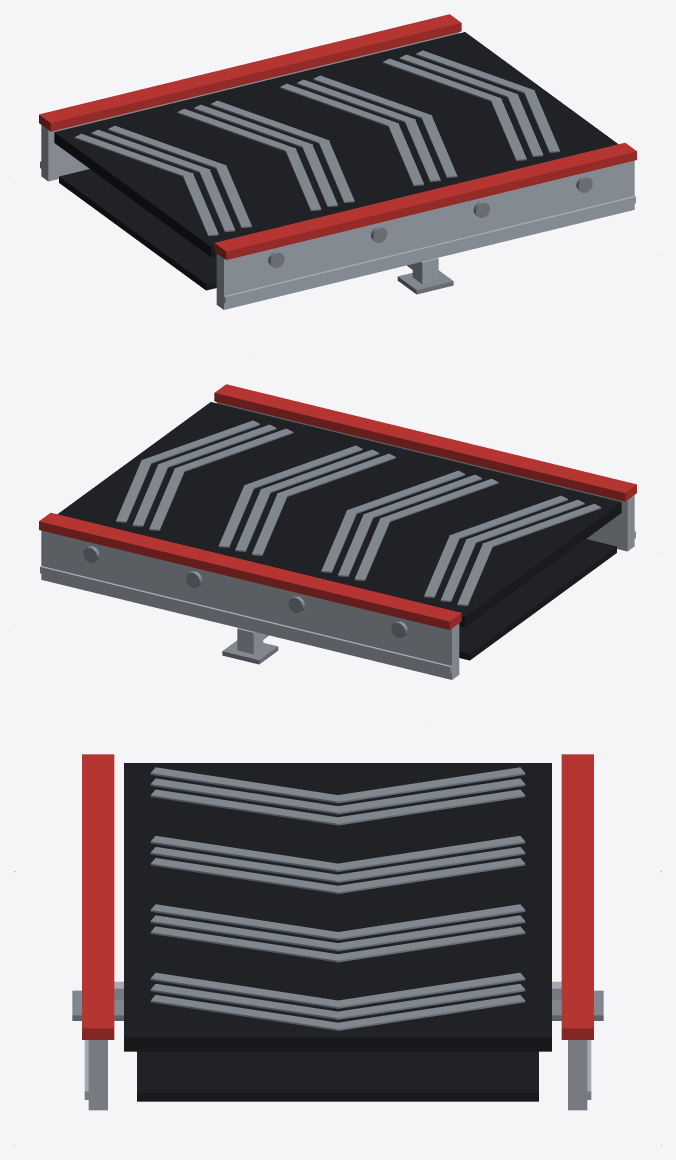
File: convoyeur_t3.glb
3 views of the same model, one above another, from view 1: azimuth 30°, elevation 25°; view 2: azimuth 150°, elevation 25°; view 3: azimuth 270°, elevation 25° (orthographic). The views are drawn at different scales.
Parts seen in each view (by area): view 1: pieces_noir.024, pieces_gris_clair.016, bande_acier.042, pieces_rive_t3.006, pieces_acier.048; view 2: pieces_noir.024, pieces_gris_clair.016, bande_acier.042, pieces_rive_t3.006, pieces_acier.048; view 3: pieces_noir.024, bande_acier.042, pieces_rive_t3.006, pieces_gris_clair.016, pieces_acier.048.
Part boxes in pixels (x1,y1,x2,y2): pieces_noir.024: [54, 32, 617, 290]; pieces_gris_clair.016: [40, 32, 635, 309]; bande_acier.042: [74, 50, 559, 235]; pieces_rive_t3.006: [39, 14, 636, 259]; pieces_acier.048: [268, 176, 592, 294]; pieces_noir.024: [58, 402, 621, 660]; pieces_gris_clair.016: [40, 402, 635, 679]; bande_acier.042: [116, 420, 601, 605]; pieces_rive_t3.006: [39, 384, 636, 629]; pieces_acier.048: [83, 546, 407, 664]; pieces_noir.024: [124, 763, 551, 1101]; bande_acier.042: [150, 767, 525, 1030]; pieces_rive_t3.006: [82, 754, 593, 1039]; pieces_gris_clair.016: [84, 981, 591, 1110]; pieces_acier.048: [72, 990, 603, 1020].
Size of the model in its own units: 1 by 0.2 by 1.
